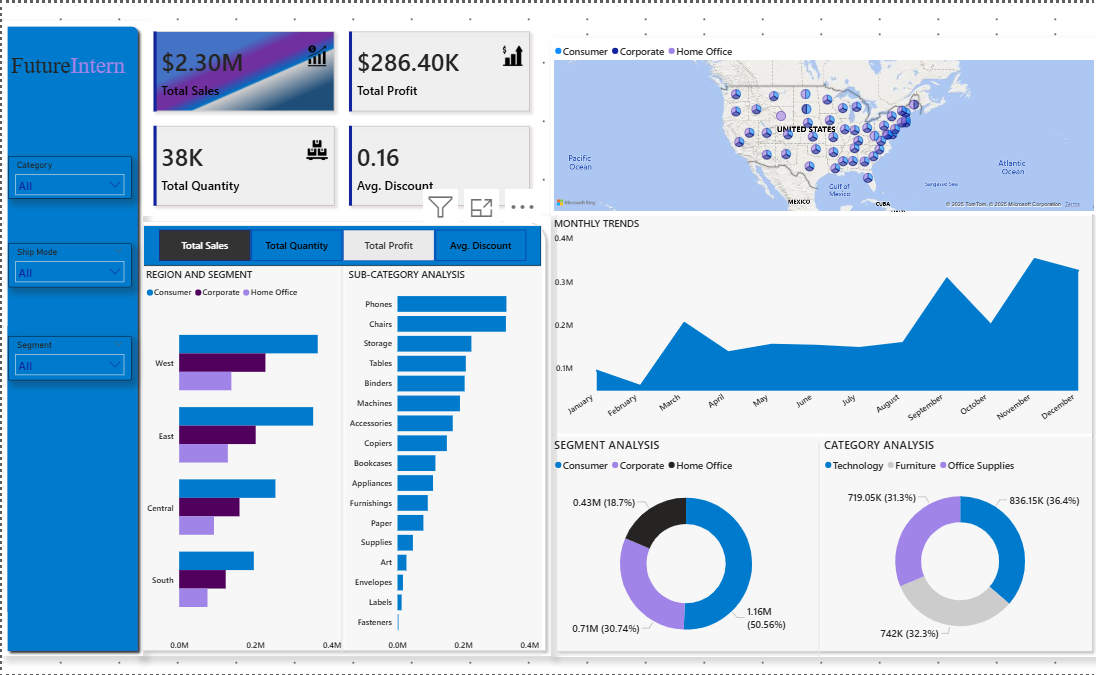

What the dashboard file says about the page in this screenshot:
{"tool":"powerbi","page":{"name":"Page 1","canvas":[1800,1100],"ordinal":0},"visuals":[{"type":"shape","box":[0,29.3,232,1042.7],"z":0},{"type":"shape","box":[221.3,349.3,680,722.7],"z":1000},{"type":"cardVisual","fields":{"Data":["Orders.Total Sales","Orders.Total Profit","Orders.Total Quantity","Orders.Average Discount"]},"box":[232,29.3,653.3,320],"z":2000},{"type":"slicer","fields":{"Values":["Metrics.Metrics"]},"box":[232,365.3,653.3,66.7],"z":3000},{"type":"slicer","fields":{"Values":["Orders.Category"]},"box":[10.4,251.7,202.4,70.1],"z":4000},{"type":"slicer","fields":{"Values":["Orders.Segment"]},"box":[10.4,547.5,202.4,72.6],"z":5000},{"type":"slicer","fields":{"Values":["Orders.Ship Mode"]},"box":[10.4,394.4,202.4,72.6],"z":6000},{"type":"clusteredBarChart","title":"REGION AND SEGMENT","fields":{"Y":["Orders.Total Sales"],"Category":["Orders.Region"],"Series":["Orders.Segment"]},"box":[232,432,330.7,640],"z":7000},{"type":"clusteredBarChart","title":"SUB-CATEGORY ANALYSIS","fields":{"Y":["Orders.Total Sales"],"Category":["Orders.Sub-Category"]},"box":[562.7,432,322.7,640],"z":11000},{"type":"shape","box":[900.9,56.6,898.5,1016.6],"z":12001},{"type":"donutChart","title":"SEGMENT ANALYSIS","fields":{"Y":["Orders.Total Sales"],"Category":["Orders.Segment"]},"box":[901.3,712,442.7,360],"z":12002},{"type":"donutChart","title":"CATEGORY ANALYSIS","fields":{"Y":["Orders.Total Sales"],"Category":["Orders.Category"]},"box":[1344,712,456,352],"z":12003},{"type":"stackedAreaChart","title":"MONTHLY TRENDS","fields":{"Y":["Orders.Total Sales"],"Category":["Orders.Order Date.Variation.Date Hierarchy.Year","Orders.Order Date.Variation.Date Hierarchy.Quarter","Orders.Order Date.Variation.Date Hierarchy.Month","Orders.Order Date.Variation.Date Hierarchy.Day"]},"box":[901.3,349.3,898.7,357.3],"z":12004},{"type":"map","fields":{"Category":["Orders.State"],"Series":["Orders.Segment"]},"box":[900.9,56.6,898.5,290.5],"z":12005},{"type":"shape","box":[1336,720,8,352],"z":12007},{"type":"shape","box":[554.7,432,8,632],"z":12008},{"type":"textbox","box":[10.7,77.3,202.7,74.7],"z":12009}]}

Visuals, with their boxes in screenshot pixels (x1, y1, x2, y2), scaled from the page's 1800x1100 canvas onto the 1096x675 screenshot:
shape: <box>0,18,141,658</box>
shape: <box>135,214,549,658</box>
cardVisual - Orders.Total Sales x Orders.Total Profit: <box>141,18,539,214</box>
slicer - Metrics.Metrics: <box>141,224,539,265</box>
slicer - Orders.Category: <box>6,154,130,197</box>
slicer - Orders.Segment: <box>6,336,130,381</box>
slicer - Orders.Ship Mode: <box>6,242,130,287</box>
"REGION AND SEGMENT" clusteredBarChart: <box>141,265,343,658</box>
"SUB-CATEGORY ANALYSIS" clusteredBarChart: <box>343,265,539,658</box>
shape: <box>549,35,1095,659</box>
"SEGMENT ANALYSIS" donutChart: <box>549,437,818,658</box>
"CATEGORY ANALYSIS" donutChart: <box>818,437,1095,653</box>
"MONTHLY TRENDS" stackedAreaChart: <box>549,214,1095,434</box>
map - Orders.State x Orders.Segment: <box>549,35,1095,213</box>
shape: <box>813,442,818,658</box>
shape: <box>338,265,343,653</box>
textbox: <box>7,47,130,93</box>
